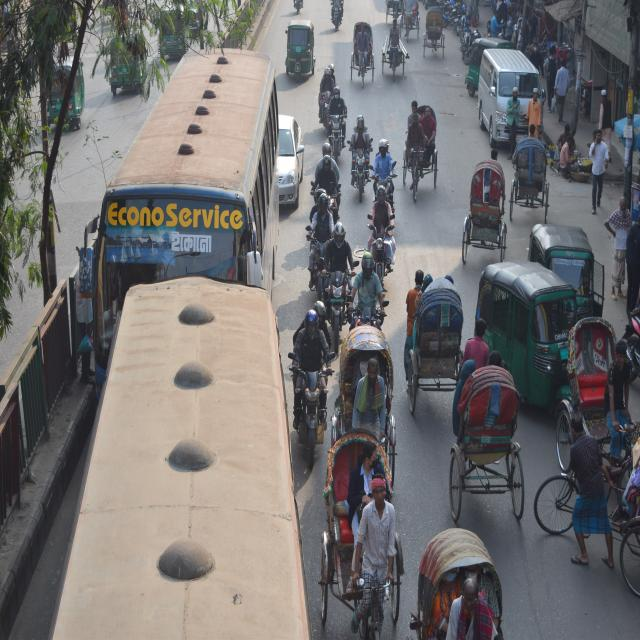bus: (60, 265, 285, 640), (117, 49, 275, 279)
microbus: (475, 39, 540, 152)
motorbike: (293, 359, 335, 466), (316, 256, 349, 332), (362, 214, 395, 282), (370, 162, 402, 212), (622, 304, 640, 384), (351, 146, 372, 202), (306, 230, 327, 282), (326, 113, 344, 160), (325, 0, 345, 39), (317, 84, 332, 134)
